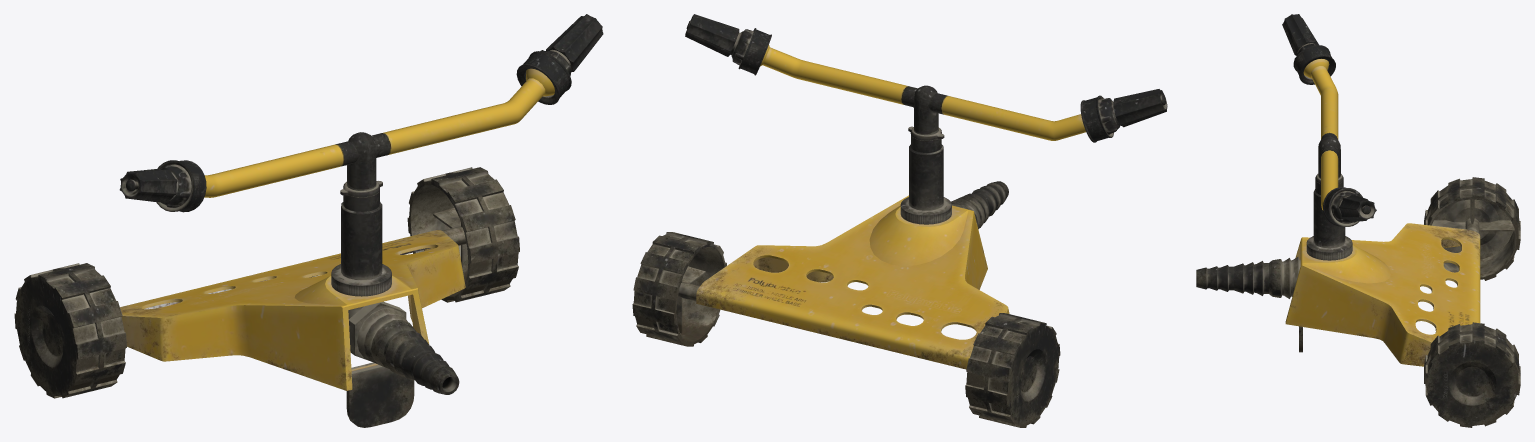
The model's file is garden-sprinkler.glb.
The picture shows the model from 3 angles, left to right: view 1: azimuth 30°, elevation 25°; view 2: azimuth 150°, elevation 25°; view 3: azimuth 270°, elevation 25°; orthographic projection. The views are drawn at different scales.
Visible parts, largest first — view 1: garden_sprinkler_01_body_main, garden_sprinkler_01_wheels, garden_sprinkler_01_spinner, garden_sprinkler_01_nozel_left, garden_sprinkler_01_nozel_right; view 2: garden_sprinkler_01_body_main, garden_sprinkler_01_wheels, garden_sprinkler_01_spinner, garden_sprinkler_01_nozel_left, garden_sprinkler_01_nozel_right; view 3: garden_sprinkler_01_body_main, garden_sprinkler_01_wheels, garden_sprinkler_01_spinner, garden_sprinkler_01_nozel_left, garden_sprinkler_01_nozel_right.
Part boxes in pixels (x1,y1,x2,y2): garden_sprinkler_01_body_main: (120, 181, 465, 427); garden_sprinkler_01_wheels: (14, 167, 519, 398); garden_sprinkler_01_spinner: (204, 68, 554, 197); garden_sprinkler_01_nozel_left: (119, 160, 206, 212); garden_sprinkler_01_nozel_right: (516, 14, 603, 104); garden_sprinkler_01_body_main: (696, 126, 1009, 369); garden_sprinkler_01_wheels: (632, 232, 1060, 427); garden_sprinkler_01_spinner: (760, 45, 1085, 140); garden_sprinkler_01_nozel_left: (1080, 89, 1167, 142); garden_sprinkler_01_nozel_right: (685, 14, 771, 75); garden_sprinkler_01_body_main: (1196, 174, 1480, 366); garden_sprinkler_01_wheels: (1424, 177, 1520, 427); garden_sprinkler_01_spinner: (1303, 59, 1340, 210); garden_sprinkler_01_nozel_left: (1282, 14, 1335, 84); garden_sprinkler_01_nozel_right: (1323, 187, 1376, 226).
Size of the model in its own units: 0.3508 by 0.203 by 0.2491.
Materials: 1 (1 with a texture image).
